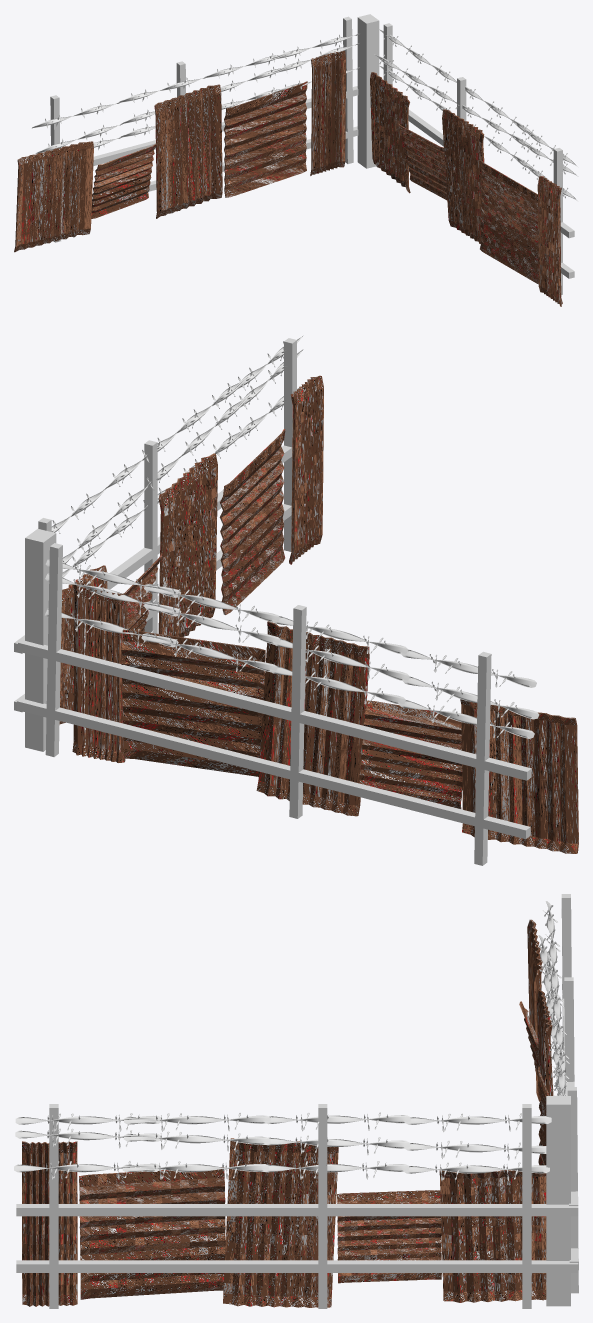
File: cloture-fence-corner.fbx
The picture shows the model from 3 angles, top to bottom: view 1: azimuth 30°, elevation 25°; view 2: azimuth 150°, elevation 25°; view 3: azimuth 270°, elevation 25°; orthographic projection. The views are drawn at different scales.
Parts seen in each view (by area): view 1: fenceWall1.000, fenceWall1.004, barbewire.000, Cube.000, barbewire.001, Cube, Cube.004; view 2: fenceWall1.000, fenceWall1.004, Cube.000, barbewire.000, Cube.004, barbewire.001, Cube; view 3: fenceWall1.004, Cube.004, barbewire.001, Cube, Cube.000, fenceWall1.000, barbewire.000.
Part boxes in pixels (x1=…): fenceWall1.000: x1=14, y1=51, x2=345, y2=252; fenceWall1.004: x1=370, y1=72, x2=562, y2=306; barbewire.000: x1=32, y1=33, x2=360, y2=153; Cube.000: x1=50, y1=16, x2=358, y2=242; barbewire.001: x1=374, y1=29, x2=578, y2=200; Cube: x1=357, y1=14, x2=379, y2=168; Cube.004: x1=383, y1=23, x2=574, y2=294; fenceWall1.000: x1=72, y1=582, x2=578, y2=853; fenceWall1.004: x1=59, y1=375, x2=323, y2=724; Cube.000: x1=16, y1=543, x2=531, y2=865; barbewire.000: x1=45, y1=559, x2=539, y2=738; Cube.004: x1=14, y1=338, x2=296, y2=712; barbewire.001: x1=51, y1=336, x2=303, y2=577; Cube: x1=25, y1=529, x2=56, y2=751; fenceWall1.004: x1=22, y1=1138, x2=546, y2=1307; Cube.004: x1=16, y1=1104, x2=578, y2=1308; barbewire.001: x1=14, y1=1112, x2=551, y2=1180; Cube: x1=546, y1=1096, x2=570, y2=1306; Cube.000: x1=561, y1=894, x2=578, y2=1293; fenceWall1.000: x1=519, y1=919, x2=553, y2=1165; barbewire.000: x1=536, y1=901, x2=569, y2=1095.
Size of the model in its own units: 6784 by 2546 by 6263.
Materials: 2 (2 with a texture image).
